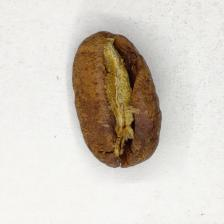NG: (90, 39, 147, 141)
